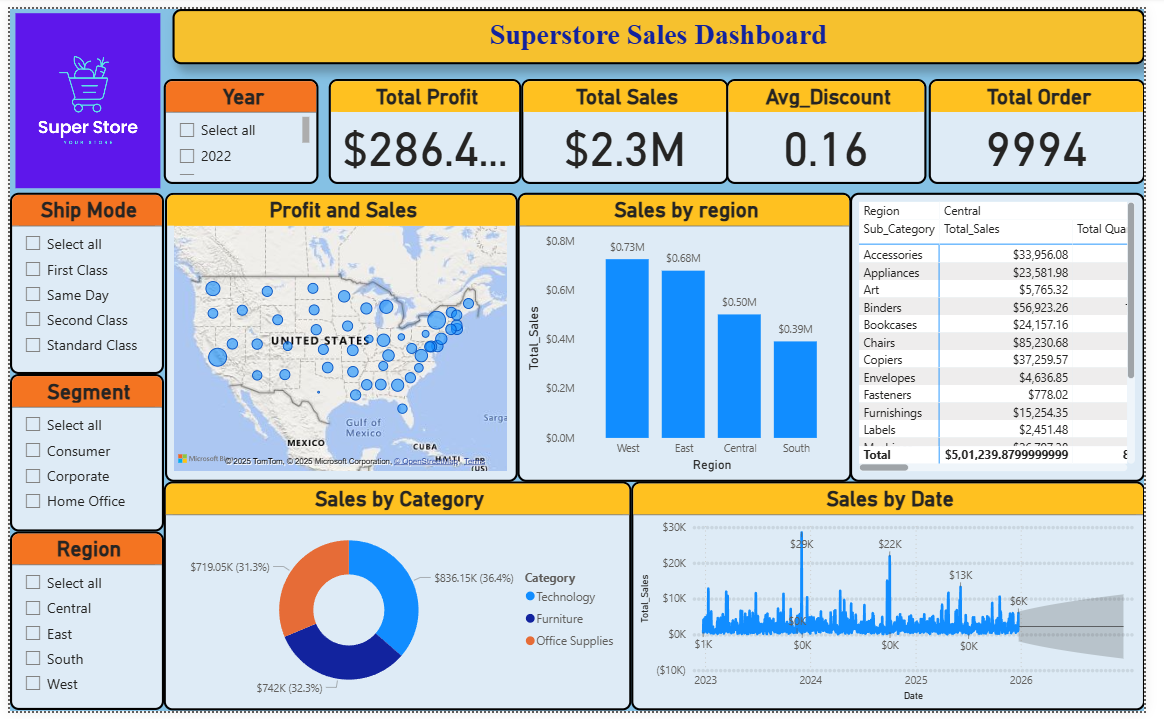

The dashboard page shown, as its layout file describes it:
{"tool":"powerbi","page":{"name":"Superstore Sales Dashboard","canvas":[1297,802],"ordinal":5},"visuals":[{"type":"slicer","title":"Year","fields":{"Values":["Date.Year"]},"box":[175.7,80,177.1,120],"z":0},{"type":"card","title":"Total Sales","fields":{"Values":["Sum(super_store sales.Sales)"]},"box":[584.3,80,237.1,120],"z":0,"group":"g1"},{"type":"slicer","title":"Ship Mode","fields":{"Values":["super_store sales.Ship_Mode"]},"box":[0,210,175.7,207.1],"z":0,"group":"g4"},{"type":"columnChart","title":"Sales by region","fields":{"Category":["super_store sales.Region"],"Y":["super_store sales.Total_Sales"]},"box":[580,210,381.4,330],"z":0,"group":"g2"},{"type":"lineChart","title":"Sales by Date","fields":{"Y":["super_store sales.Total_Sales"],"Category":["Date.Date"]},"box":[710,540,587.1,261.4],"z":0,"group":"g3"},{"type":"textbox","title":"ssv","box":[185.7,0,1111.4,62.9],"z":1000},{"type":"card","title":"Total Profit","fields":{"Values":["Sum(super_store sales.Profit)"]},"box":[364.3,80,220,120],"z":1000,"group":"g1"},{"type":"pivotTable","fields":{"Rows":["super_store sales.Sub_Category"],"Columns":["super_store sales.Region"],"Values":["super_store sales.Total_Sales","super_store sales.Total Quantity"]},"box":[960,210,337.1,330],"z":1000,"group":"g2"},{"type":"donutChart","title":"Sales by Category","fields":{"Category":["super_store sales.Category"],"Y":["super_store sales.Total_Sales"]},"box":[175.7,540,534.3,261.4],"z":1000,"group":"g3"},{"type":"slicer","title":"Region","fields":{"Values":["super_store sales.Region"]},"box":[0,597.1,175.7,204.3],"z":1000,"group":"g4"},{"type":"image","box":[1.4,0,175.7,210],"z":2000},{"type":"card","title":"Avg_Discount","fields":{"Values":["super_store sales.Average Discount"]},"box":[818.6,80,228.6,120],"z":2000,"group":"g1"},{"type":"map","title":"Profit and Sales","fields":{"Category":["super_store sales.Customer_State","super_store sales.Customer_City"],"Size":["super_store sales.Total Profit"]},"box":[177.1,210,402.9,330],"z":2000,"group":"g2"},{"type":"slicer","title":"Segment","fields":{"Values":["super_store sales.Segment"]},"box":[0,417.1,175.7,180],"z":2000,"group":"g4"},{"type":"group","id":"g1","title":"Group 1","box":[364.3,80,932.9,120],"z":3000},{"type":"card","title":"Total Order","fields":{"Values":["super_store sales.Order Count"]},"box":[1050,80,247.1,120],"z":3000,"group":"g1"},{"type":"group","id":"g2","title":"Group 2","box":[177.1,210,1120,330],"z":4000},{"type":"group","id":"g3","title":"Group 3","box":[175.7,540,1121.4,261.4],"z":5000},{"type":"group","id":"g4","title":"Group 4","box":[0,210,175.7,591.4],"z":6000}]}

Visuals, with their boxes in screenshot pixels (x1, y1, x2, y2), scaled from the page's 1297x802 canvas onto the 1164x719 screenshot:
"Year" slicer: 158:72:317:179
"Total Sales" card: 524:72:737:179
"Ship Mode" slicer: 0:188:158:374
"Sales by region" columnChart: 521:188:863:484
"Sales by Date" lineChart: 637:484:1163:718
"ssv" textbox: 167:0:1163:56
"Total Profit" card: 327:72:524:179
pivotTable - super_store sales.Sub_Category x super_store sales.Region: 862:188:1163:484
"Sales by Category" donutChart: 158:484:637:718
"Region" slicer: 0:535:158:718
image: 1:0:159:188
"Avg_Discount" card: 735:72:940:179
"Profit and Sales" map: 159:188:521:484
"Segment" slicer: 0:374:158:535
"Group 1" group: 327:72:1163:179
"Total Order" card: 942:72:1163:179
"Group 2" group: 159:188:1163:484
"Group 3" group: 158:484:1163:718
"Group 4" group: 0:188:158:718
